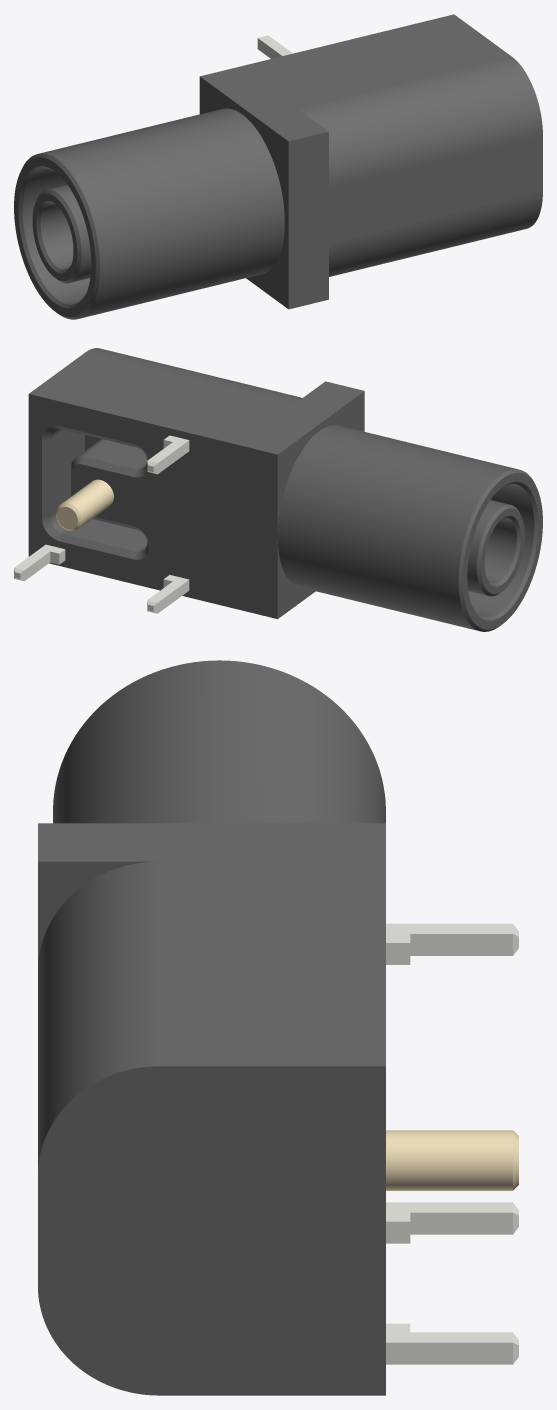
The model's file is Banana_Cliff_FCR7350B_S16N-PC_Horizontal.glb.
3 renders of one model, top to bottom at view 1: azimuth 30°, elevation 25°; view 2: azimuth 150°, elevation 25°; view 3: azimuth 270°, elevation 25°, orthographic. The views are drawn at different scales.
Parts seen in each view (by area): view 1: Shape_IndexedFaceSet.031, Shape_IndexedFaceSet.004, Shape_IndexedFaceSet.002, Shape_IndexedFaceSet.001, Shape_IndexedFaceSet.006, Shape_IndexedFaceSet.007, Shape_IndexedFaceSet.064, Shape_IndexedFaceSet.062, Shape_IndexedFaceSet.070, Shape_IndexedFaceSet.066, Shape_IndexedFaceSet.055, Shape_IndexedFaceSet.068 (+3 smaller); view 2: Shape_IndexedFaceSet.031, Shape_IndexedFaceSet.003, Shape_IndexedFaceSet.001, Shape_IndexedFaceSet.007, Shape_IndexedFaceSet.064, Shape_IndexedFaceSet.062, Shape_IndexedFaceSet.046, Shape_IndexedFaceSet.002, Shape_IndexedFaceSet.070, Shape_IndexedFaceSet.042, Shape_IndexedFaceSet.029, Shape_IndexedFaceSet.053 (+15 smaller); view 3: Shape_IndexedFaceSet, Shape_IndexedFaceSet.001, Shape_IndexedFaceSet.031, Shape_IndexedFaceSet.002, Shape_IndexedFaceSet.029, Shape_IndexedFaceSet.008, Shape_IndexedFaceSet.010, Shape_IndexedFaceSet.038, Shape_IndexedFaceSet.082, Shape_IndexedFaceSet.016, Shape_IndexedFaceSet.089, Shape_IndexedFaceSet.009.
Boxes of the visible parts, x1,y1,x2,y2 form: Shape_IndexedFaceSet.031: (40,108,284,318); Shape_IndexedFaceSet.004: (288,131,542,309); Shape_IndexedFaceSet.002: (298,57,542,187); Shape_IndexedFaceSet.001: (200,14,511,141); Shape_IndexedFaceSet.006: (329,191,542,276); Shape_IndexedFaceSet.007: (199,76,288,308); Shape_IndexedFaceSet.064: (23,168,90,304); Shape_IndexedFaceSet.062: (14,157,95,317); Shape_IndexedFaceSet.070: (40,203,73,269); Shape_IndexedFaceSet.066: (47,185,91,282); Shape_IndexedFaceSet.055: (21,153,99,319); Shape_IndexedFaceSet.068: (32,193,77,280); Shape_IndexedFaceSet.031: (277,425,525,630); Shape_IndexedFaceSet.003: (28,394,277,618); Shape_IndexedFaceSet.001: (29,352,363,454); Shape_IndexedFaceSet.007: (277,391,364,618); Shape_IndexedFaceSet.064: (468,484,534,616); Shape_IndexedFaceSet.062: (462,473,542,629); Shape_IndexedFaceSet.046: (50,429,84,516); Shape_IndexedFaceSet.002: (86,348,302,403); Shape_IndexedFaceSet.070: (484,518,516,582); Shape_IndexedFaceSet.042: (63,519,146,551); Shape_IndexedFaceSet.029: (62,479,113,527); Shape_IndexedFaceSet.053: (84,440,146,469); Shape_IndexedFaceSet: (38,1066,385,1395); Shape_IndexedFaceSet.001: (38,823,385,1066); Shape_IndexedFaceSet.031: (53,660,385,823); Shape_IndexedFaceSet.002: (38,861,158,1168); Shape_IndexedFaceSet.029: (386,1130,512,1190); Shape_IndexedFaceSet.008: (38,861,151,963); Shape_IndexedFaceSet.010: (386,1342,512,1364); Shape_IndexedFaceSet.038: (410,1212,512,1234); Shape_IndexedFaceSet.082: (410,934,512,955); Shape_IndexedFaceSet.016: (386,1202,512,1221); Shape_IndexedFaceSet.089: (386,923,512,942); Shape_IndexedFaceSet.009: (386,1323,512,1342).
Size of the model in its own units: 12.99 by 4.72 by 6.26.
